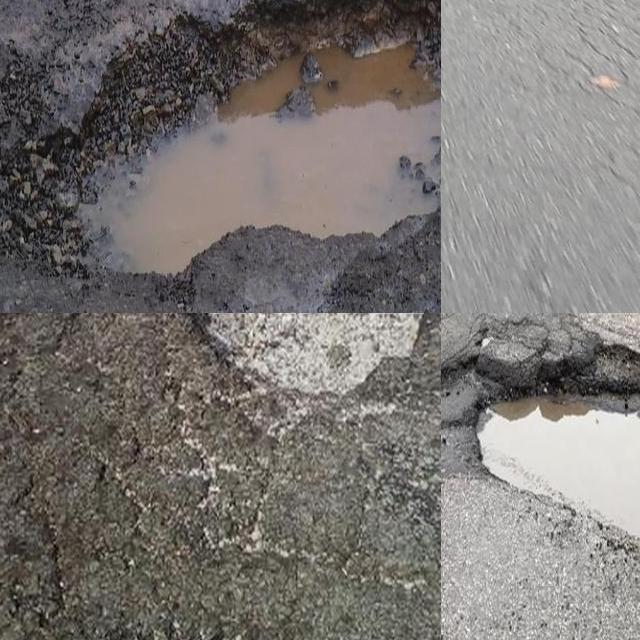Lubang: (60, 0, 441, 283), (474, 353, 640, 535), (174, 313, 430, 408)
Retak Buaya: (498, 0, 640, 137)
